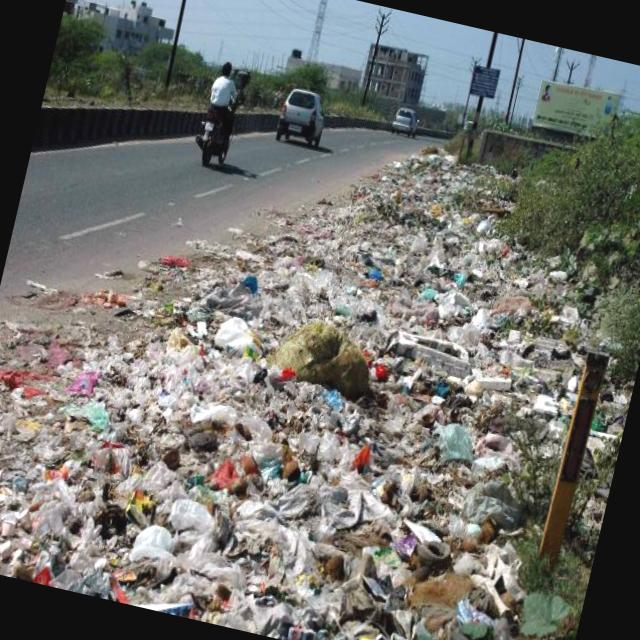garbage: (0, 204, 624, 640), (257, 143, 546, 320)
